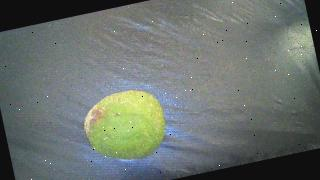DESECHO: (79, 85, 172, 169)
